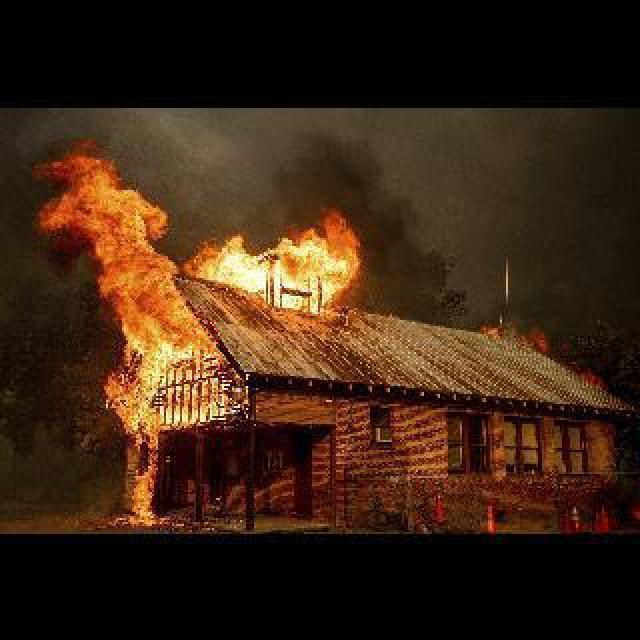Fire: (66, 148, 328, 516)
